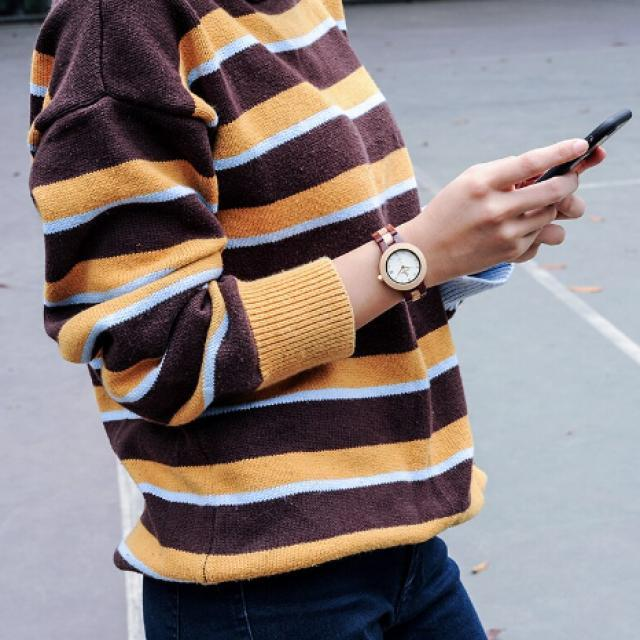Watch: (372, 223, 433, 304)
